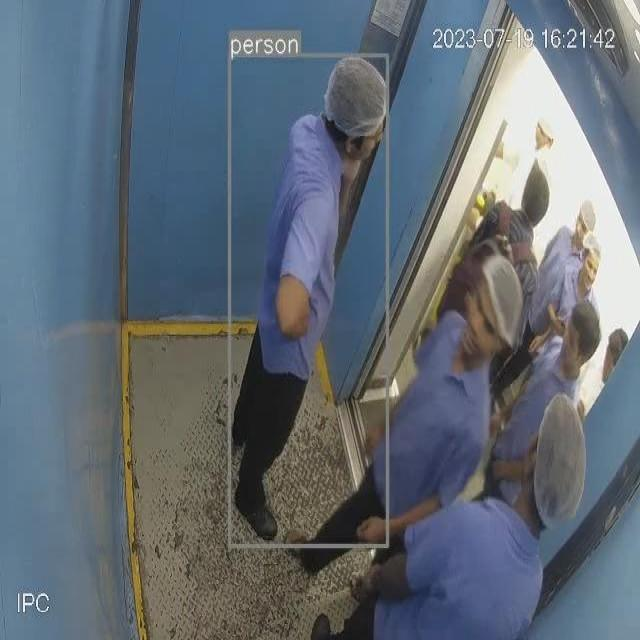person: (307, 370, 627, 640), (312, 266, 555, 582), (229, 56, 384, 545)
